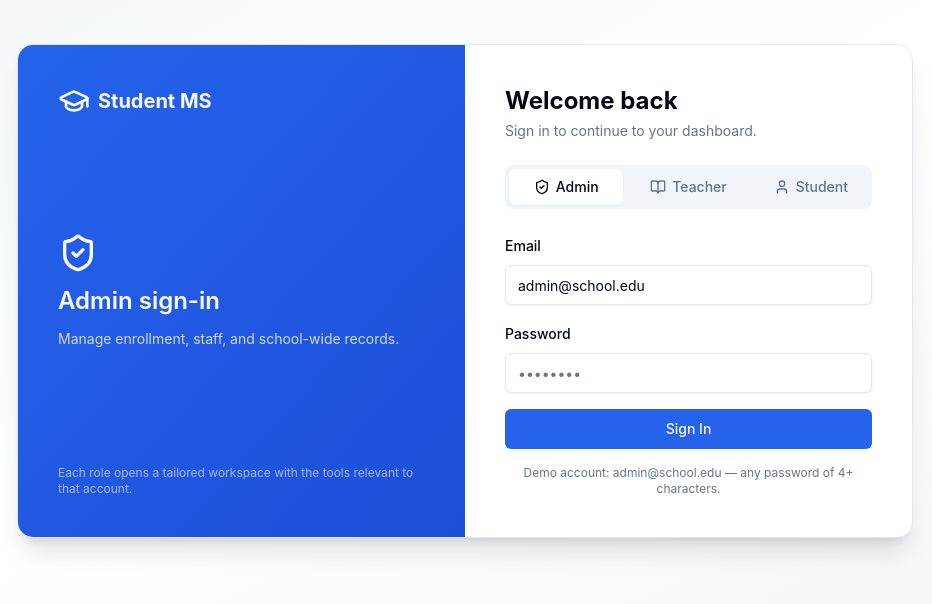
Test: App › shows an error for a password that is too short
Type "12" into the password field labelled "Password".
click(688, 373); type("12")  # box [505,353,872,393]
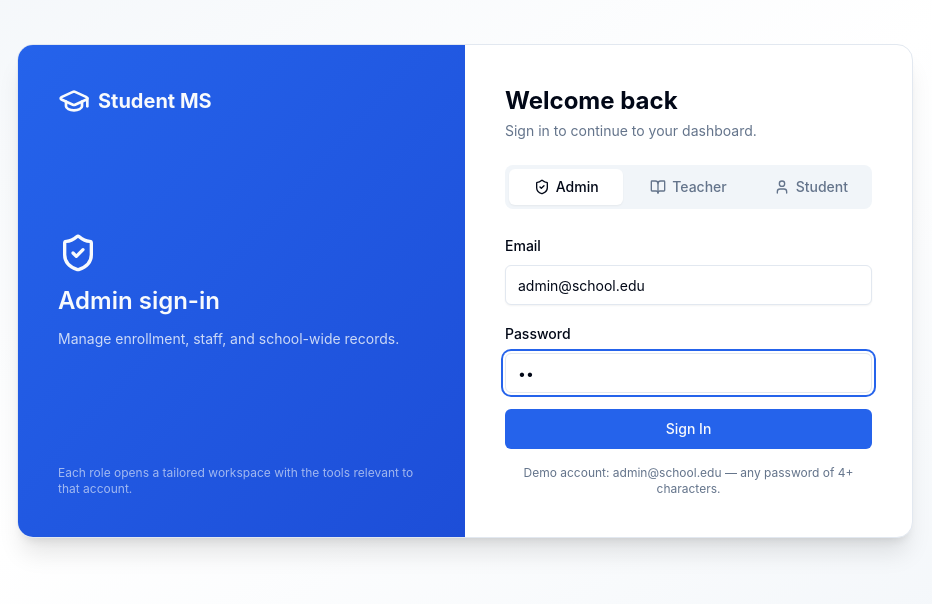
Click the button "Sign In".
click(688, 429)  # box [505,409,872,449]
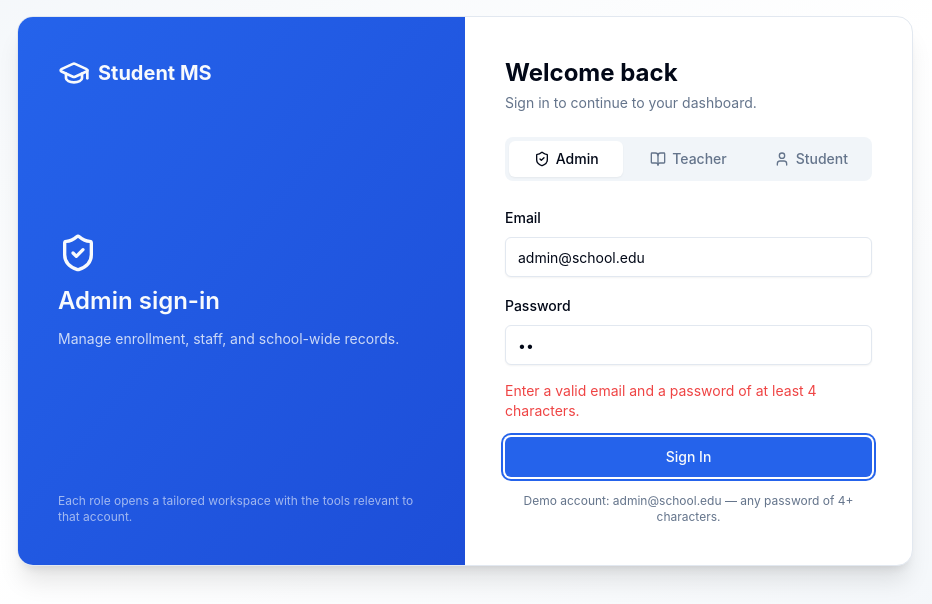
Now the text "Enter a valid email and a password of at least 4 characters." is shown, box [505,382,817,419]
